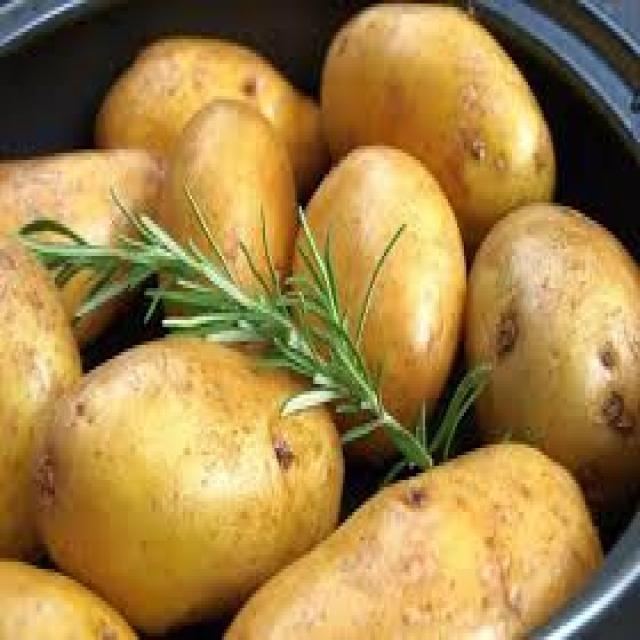Potato: (24, 338, 369, 587), (238, 429, 591, 640), (314, 4, 565, 244), (455, 213, 640, 509), (284, 133, 466, 428), (0, 195, 103, 590), (98, 0, 361, 154), (155, 75, 294, 363), (0, 138, 177, 350), (0, 531, 158, 640)
